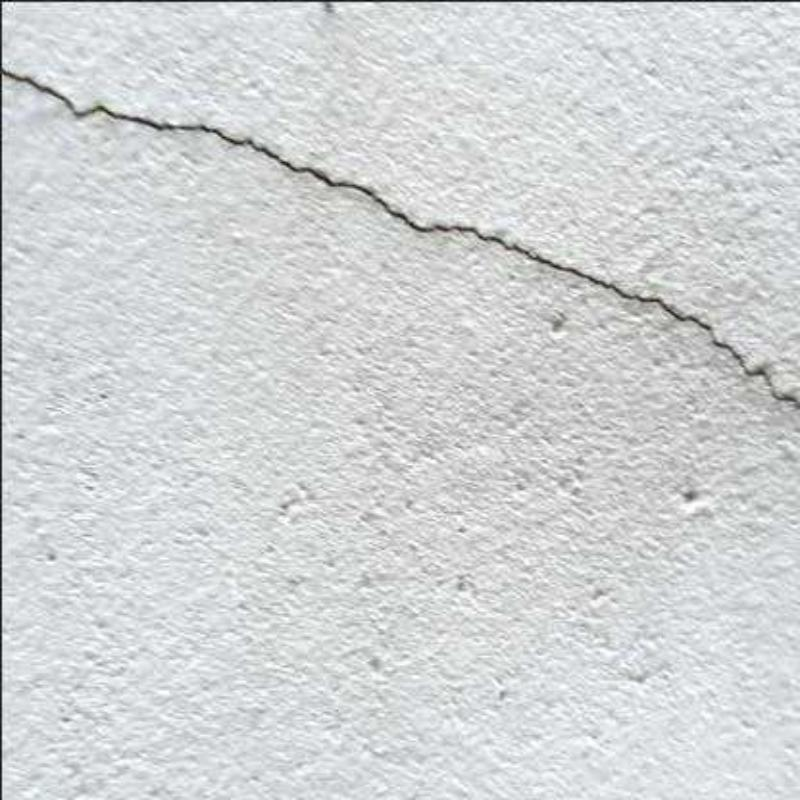crack: (2, 68, 800, 412)
